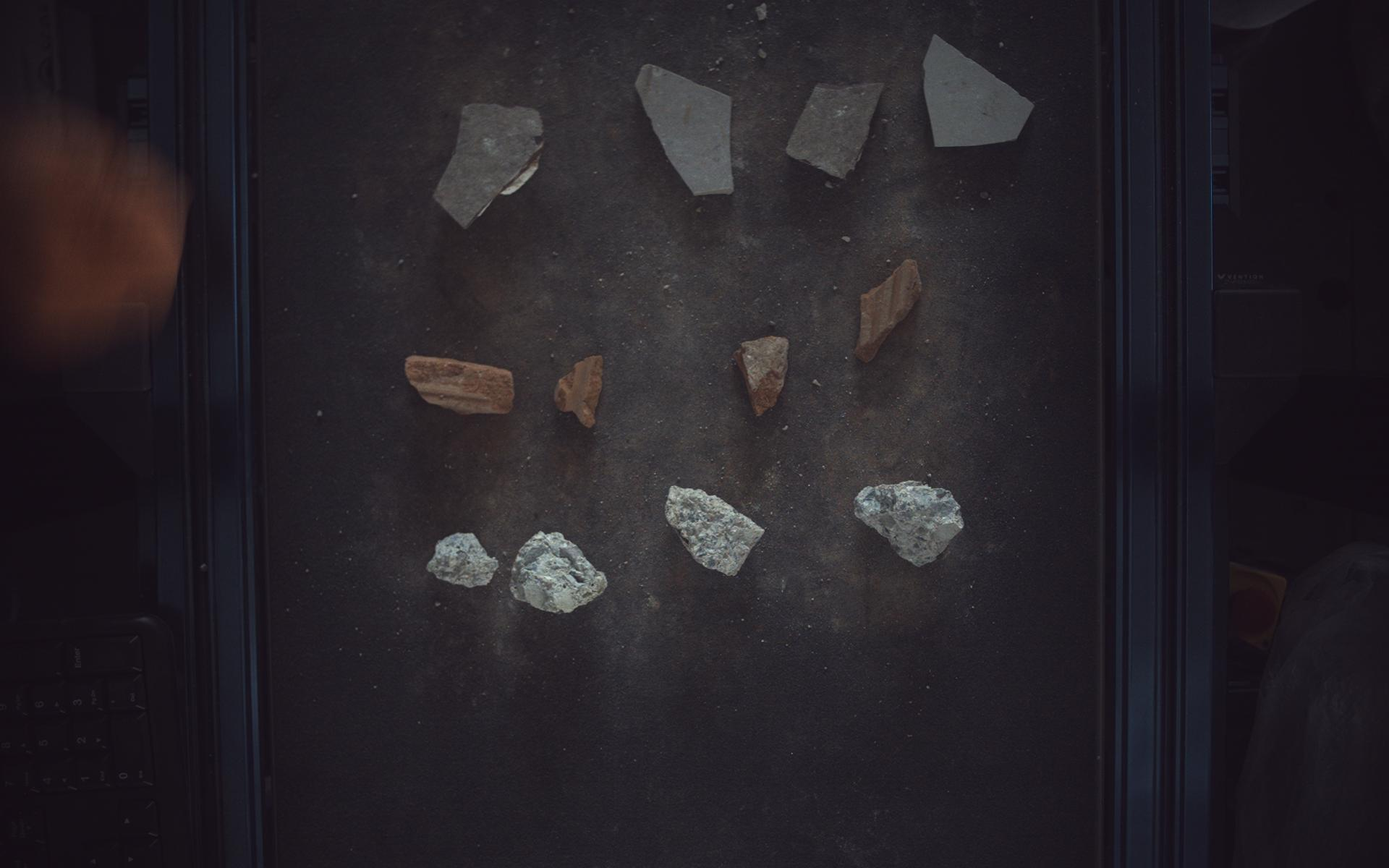brick: (857, 259, 922, 362), (406, 355, 514, 414), (734, 336, 790, 416), (555, 355, 604, 427)
concrete: (856, 481, 966, 567), (666, 485, 765, 576), (511, 532, 608, 614), (427, 533, 498, 588)
tile: (434, 103, 544, 228), (636, 63, 735, 195), (925, 33, 1036, 146), (788, 82, 885, 178)
